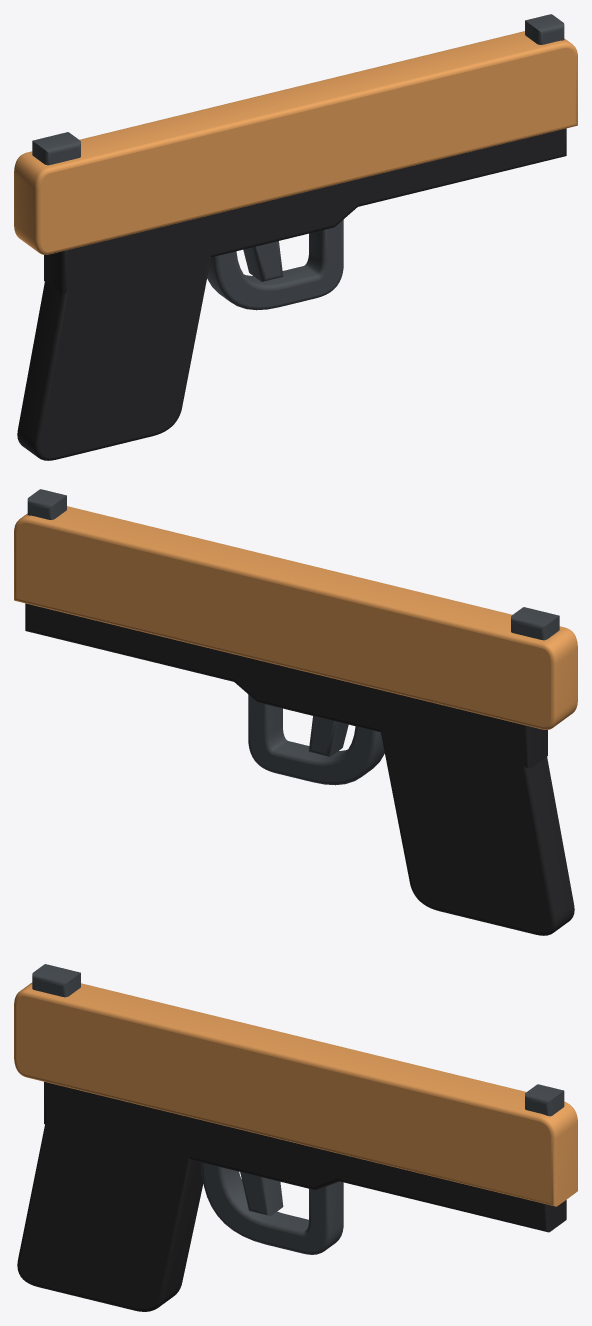
Rendered from glock.glb.
3 views of the same model, one above another, from view 1: azimuth 30°, elevation 25°; view 2: azimuth 150°, elevation 25°; view 3: azimuth 330°, elevation 25° (orthographic).
Visible parts, largest first — view 1: paint_0, poly_2, poly_1, metal_3, metal_6, metal_4, metal_5; view 2: paint_0, poly_2, poly_1, metal_3, metal_6, metal_4, metal_5; view 3: paint_0, poly_2, poly_1, metal_3, metal_4, metal_6, metal_5.
Boxes of the visible parts, left/top/right/bottom form: paint_0: left=14, top=31, right=577, bottom=254; poly_2: left=17, top=241, right=210, bottom=460; poly_1: left=44, top=128, right=566, bottom=293; metal_3: left=207, top=219, right=343, bottom=310; metal_6: left=32, top=132, right=80, bottom=165; metal_4: left=243, top=241, right=283, bottom=281; metal_5: left=525, top=14, right=564, bottom=44; paint_0: left=14, top=506, right=577, bottom=729; poly_2: left=381, top=719, right=574, bottom=935; poly_1: left=25, top=603, right=547, bottom=768; metal_3: left=248, top=694, right=384, bottom=785; metal_6: left=511, top=607, right=559, bottom=640; metal_4: left=308, top=716, right=348, bottom=756; metal_5: left=27, top=489, right=66, bottom=519; paint_0: left=14, top=982, right=577, bottom=1206; poly_2: left=17, top=1108, right=203, bottom=1311; poly_1: left=44, top=1082, right=566, bottom=1232; metal_3: left=201, top=1162, right=343, bottom=1254; metal_4: left=240, top=1172, right=283, bottom=1215; metal_6: left=32, top=964, right=80, bottom=997; metal_5: left=525, top=1084, right=564, bottom=1116.
Size of the model in its own units: 231 by 126 by 18.2.
